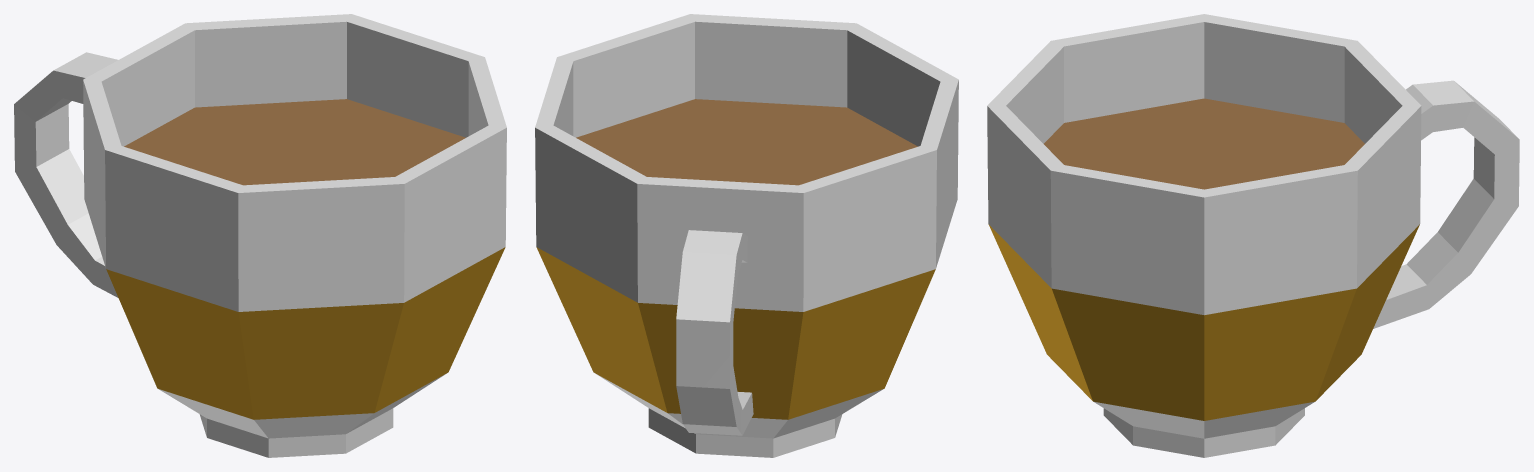
File: C_Coffee_Cup_Medium_2.fbx
3 renders of one model, left to right at view 1: azimuth 30°, elevation 25°; view 2: azimuth 150°, elevation 25°; view 3: azimuth 270°, elevation 25°, orthographic.
Parts seen in each view (by area): view 1: C_Coffee_Cup_Medium_2; view 2: C_Coffee_Cup_Medium_2; view 3: C_Coffee_Cup_Medium_2.
Boxes of the visible parts, <box> form: C_Coffee_Cup_Medium_2: <box>14,14,506,457</box>; C_Coffee_Cup_Medium_2: <box>535,14,958,457</box>; C_Coffee_Cup_Medium_2: <box>987,14,1519,457</box>.
Size of the model in its own units: 84.28 by 103 by 66.31.
